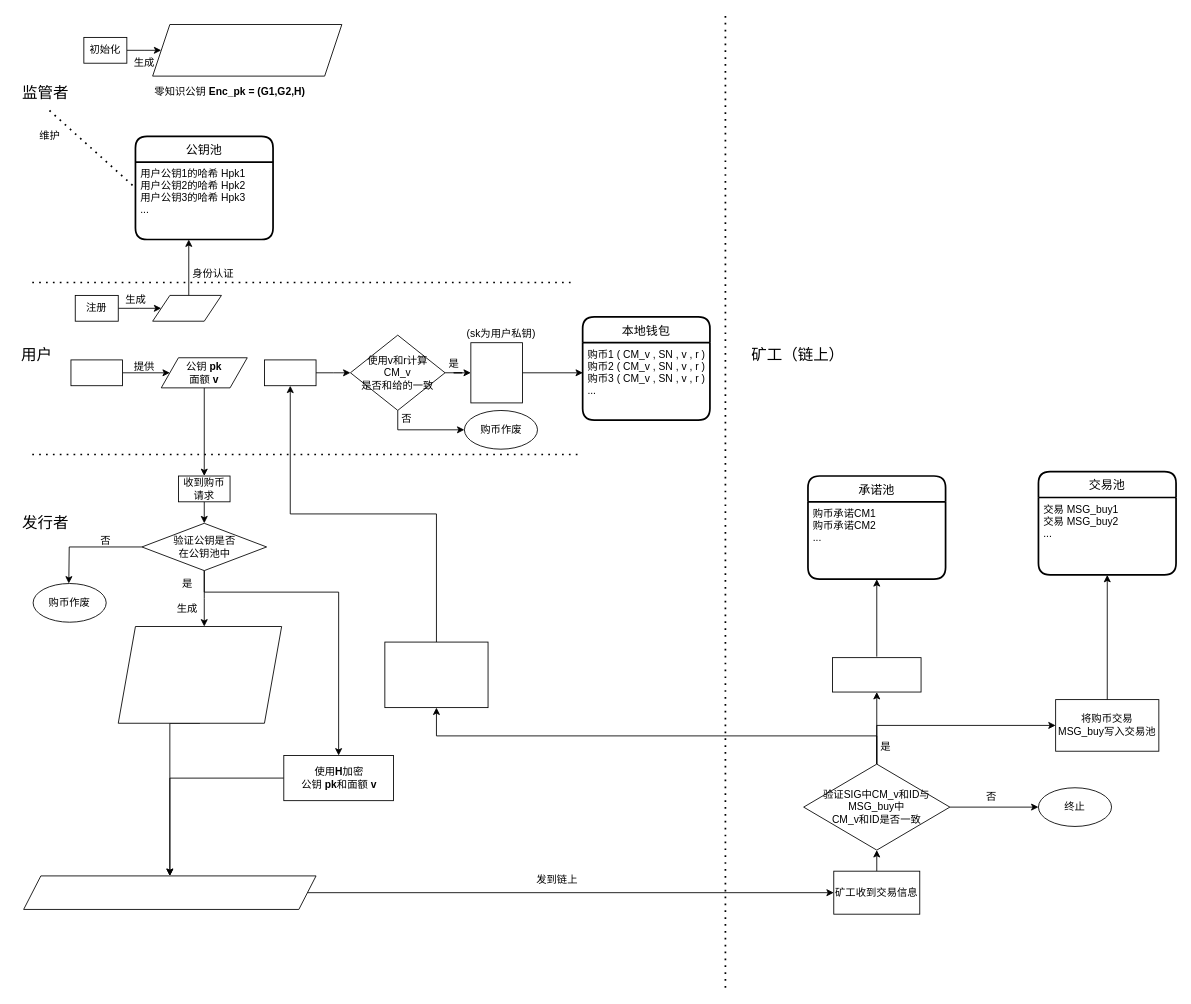
Image size: 1191x1004. Some labels were removed from this diagram. The centre of each missing label's shape, as x and y in pixels:
"MSG_buy = ( ID , SIG , CM_v , E( pk , v ) )" goes at point (169, 892).
"为购币生成序列号 SN = H(r,sk)" goes at point (496, 372).
"公钥 pk" goes at point (186, 308).
"发出购币请求" goes at point (96, 372).
"将 承诺 CM_v 随机数 r 作为购币回执 返回给用户" goes at point (436, 674).
"将购币承诺CM_v加入承诺池" goes at point (876, 674).
"收到购币回执" goes at point (290, 372).
"生成元 G1,G2 私钥 x Elgamal公钥 H = G2*x" goes at point (247, 50).
"随机数 r 承诺 CM_v = v*G1+r*H 购币交易标识 ID 签名 SIG=Sig( ID , CM_v )" goes at point (199, 674).
